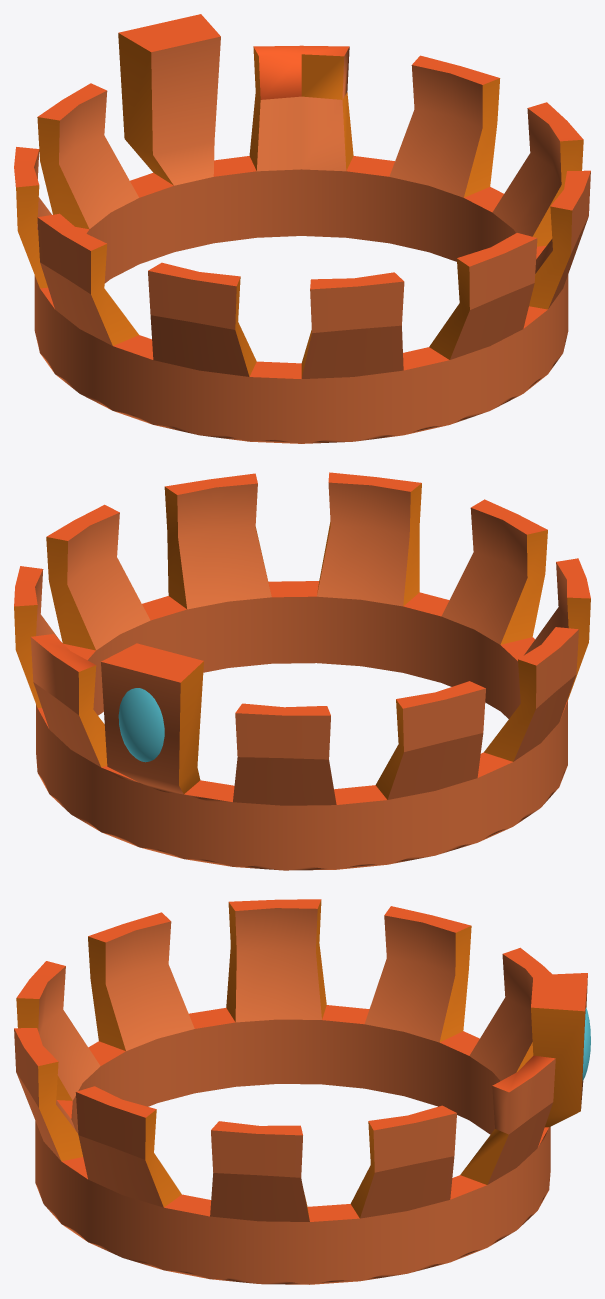
Rendered from Crown.fbx.
3 renders of one model, top to bottom at view 1: azimuth 30°, elevation 25°; view 2: azimuth 150°, elevation 25°; view 3: azimuth 270°, elevation 25°, orthographic. The views are drawn at different scales.
Visible parts, largest first — view 1: Cylinder.019; view 2: Cylinder.019; view 3: Cylinder.019.
Part boxes in pixels (x1,y1,x2,y2): Cylinder.019: (14, 14, 590, 443); Cylinder.019: (14, 472, 590, 870); Cylinder.019: (14, 899, 590, 1284).
Bounding box in the file's own units: 108 × 40.58 × 112.
